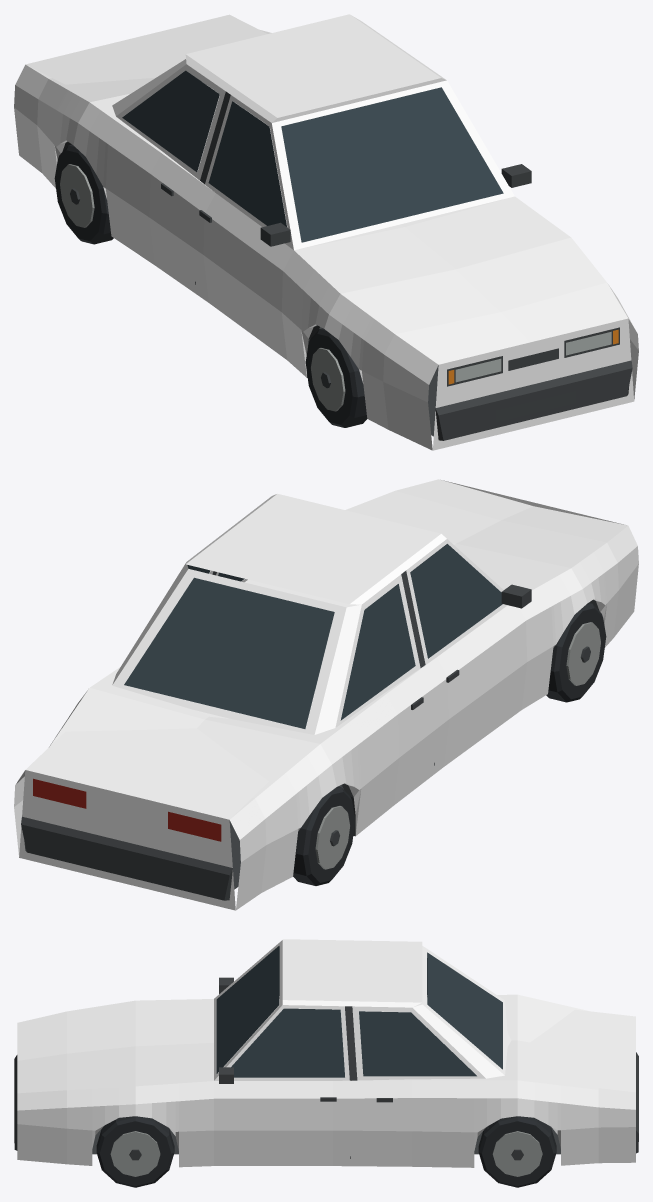
Rendered from morel_givre.glb.
3 views of the same model, one above another, from view 1: azimuth 30°, elevation 25°; view 2: azimuth 150°, elevation 25°; view 3: azimuth 270°, elevation 25° (orthographic). The views are drawn at different scales.
Parts seen in each view (by area): view 1: morel_givre; view 2: morel_givre; view 3: morel_givre.
Boxes of the visible parts, x1,y1,x2,y2 form: morel_givre: [14, 14, 638, 450]; morel_givre: [14, 479, 638, 910]; morel_givre: [14, 939, 638, 1187].
Size of the model in its own units: 1.84 by 1.51 by 4.97.
Materials: 8 (1 with a texture image).
